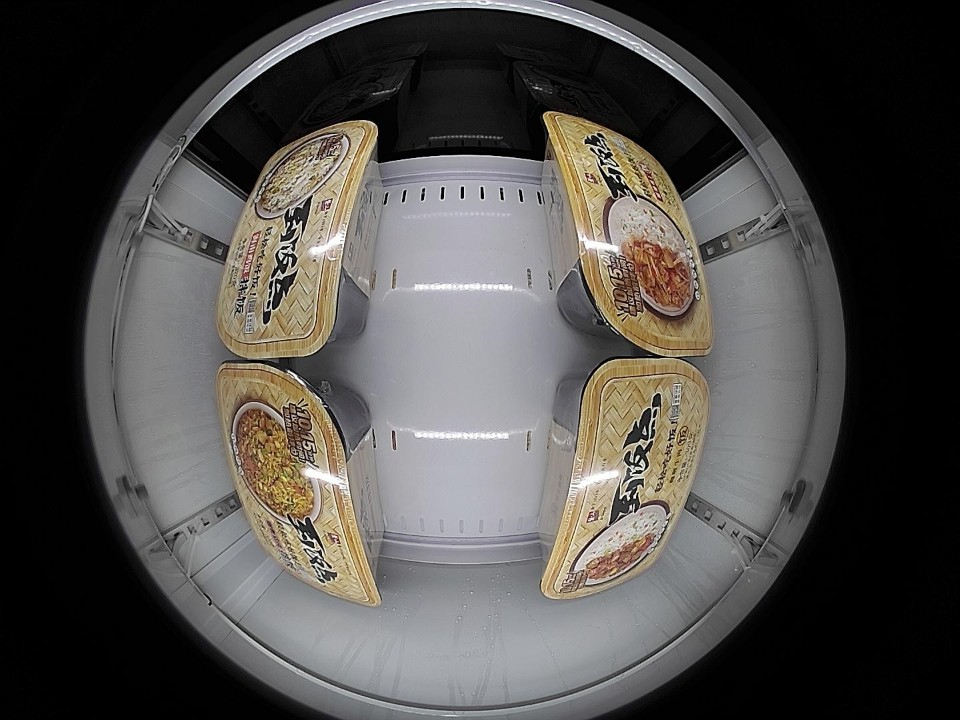daofandian1: (216, 117, 377, 361)
daofandian2: (542, 356, 709, 601)
daofandian3: (219, 360, 379, 607)
daofandian4: (546, 112, 713, 358)
